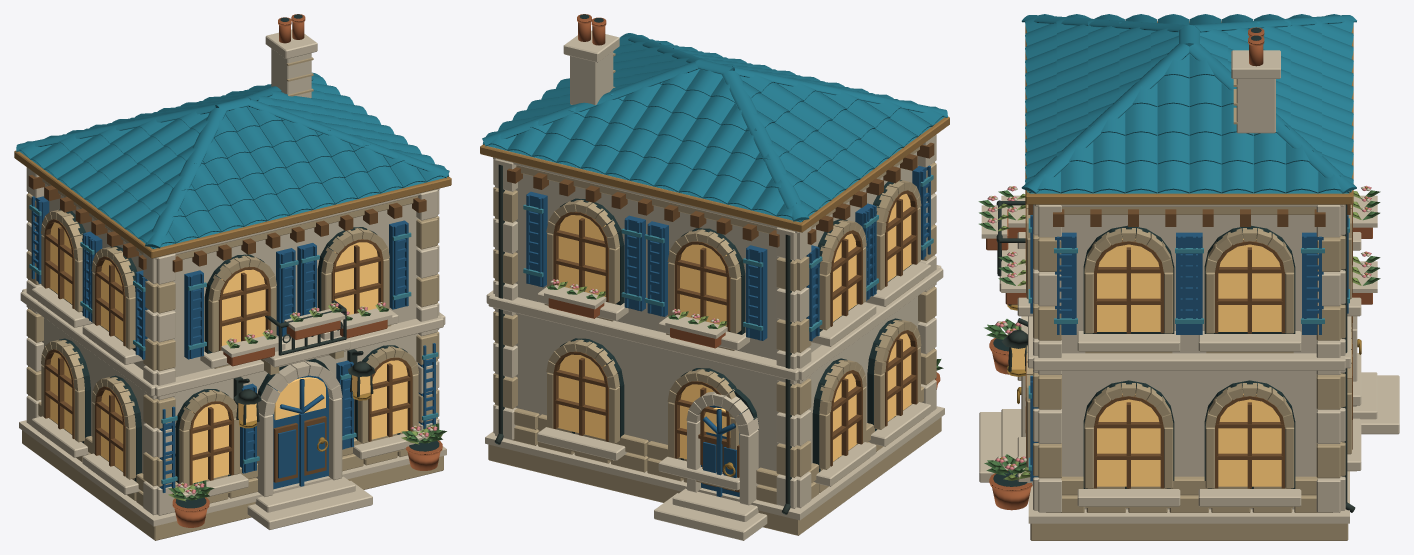
The picture shows the model from 3 angles, left to right: view 1: azimuth 30°, elevation 25°; view 2: azimuth 150°, elevation 25°; view 3: azimuth 270°, elevation 25°; orthographic projection. The views are drawn at different scales.
Visible parts, largest first — view 1: harbor_villa_2_geometry, harbor_villa_2_geometry ceramic; view 2: harbor_villa_2_geometry, harbor_villa_2_geometry ceramic; view 3: harbor_villa_2_geometry, harbor_villa_2_geometry ceramic.
Boxes of the visible parts, x1,y1,x2,y2 form: harbor_villa_2_geometry: (14, 14, 451, 540); harbor_villa_2_geometry ceramic: (16, 72, 449, 484); harbor_villa_2_geometry: (480, 14, 949, 540); harbor_villa_2_geometry ceramic: (482, 33, 947, 331); harbor_villa_2_geometry: (978, 21, 1399, 540); harbor_villa_2_geometry ceramic: (1021, 14, 1356, 470).
Size of the model in its own units: 0.9442 by 1.16 by 0.9347.
